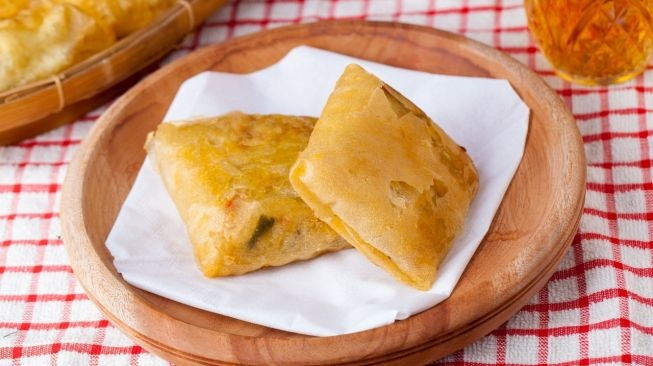martabak: (143, 62, 479, 293)
